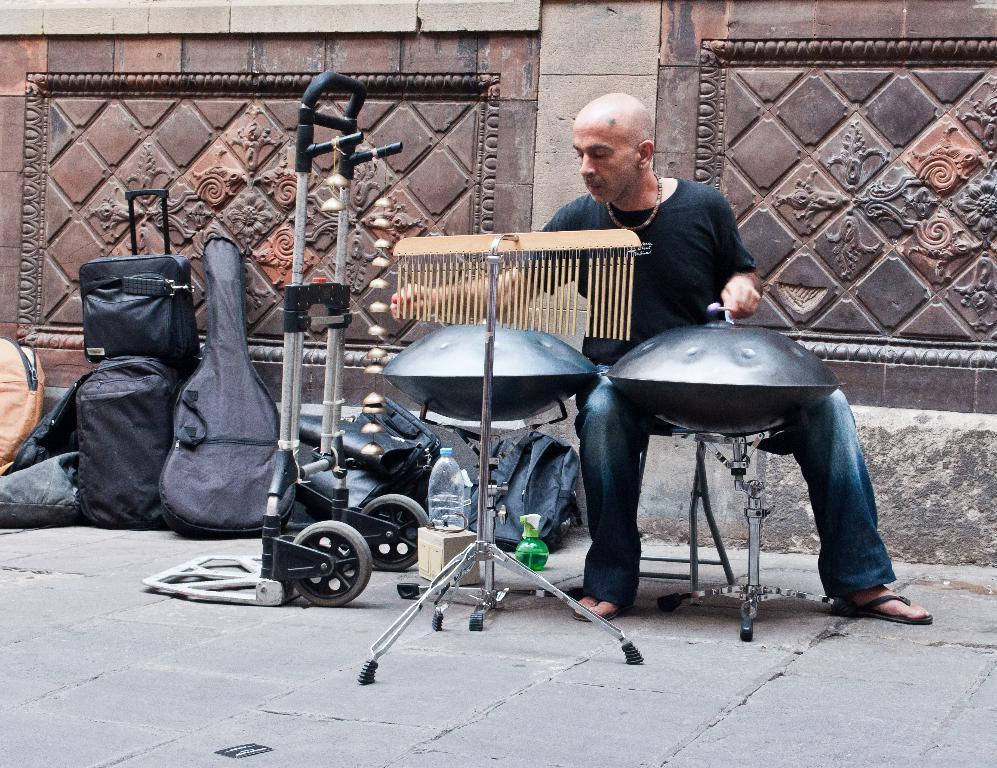Luggage-and-bags: (71, 353, 189, 532), (76, 252, 201, 375), (473, 433, 583, 550), (356, 393, 444, 505), (5, 377, 90, 468), (0, 449, 82, 532), (0, 336, 47, 468)
